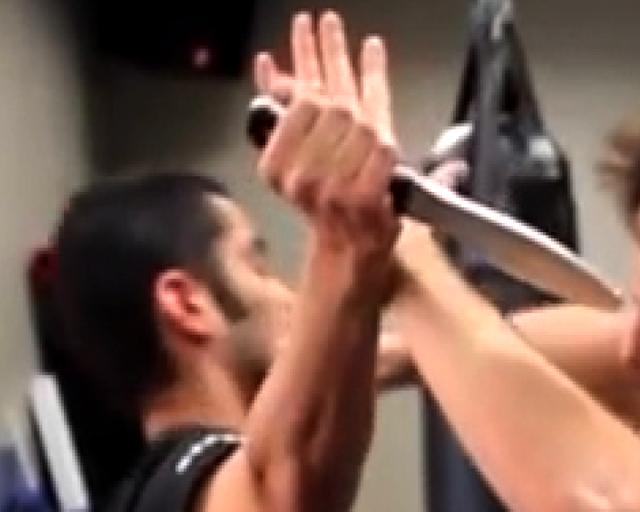long knife: (246, 72, 640, 318)
